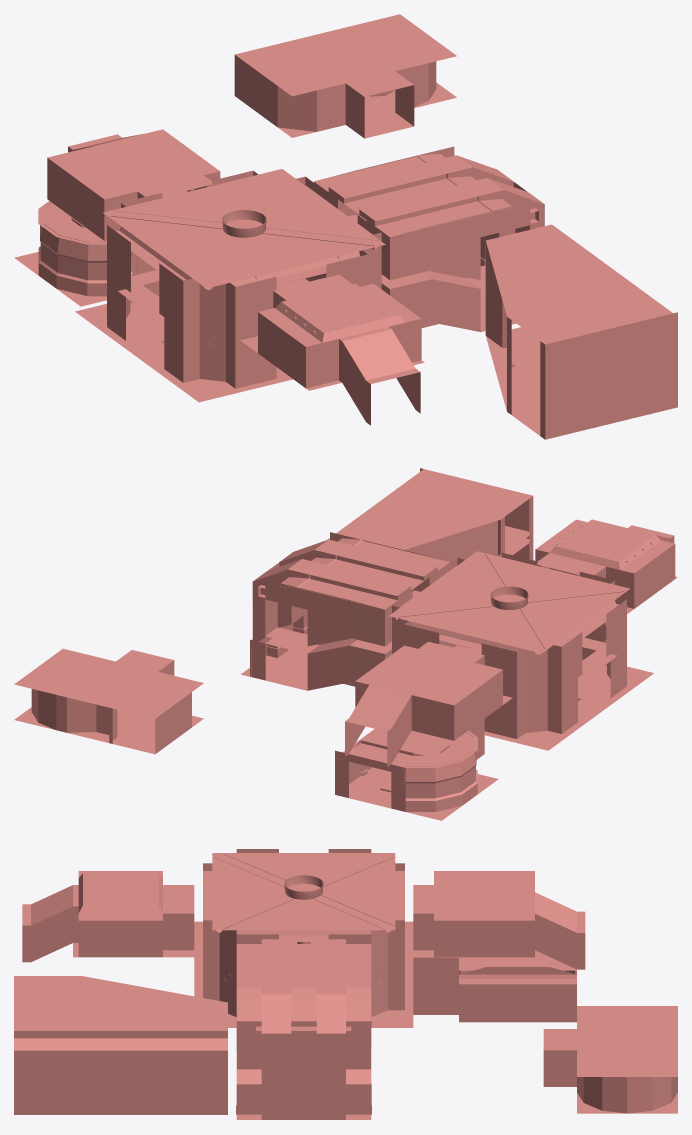
Rendered from CollisionMesh.fbx.
3 views of the same model, one above another, from view 1: azimuth 30°, elevation 25°; view 2: azimuth 150°, elevation 25°; view 3: azimuth 270°, elevation 25° (orthographic). The views are drawn at different scales.
Visible parts, largest first — view 1: Collision_Main, Collision_Corner, Collision_Lift, Collision_Base, Collision_Server, Collision_Storage, Collision_Center; view 2: Collision_Main, Collision_Lift, Collision_Base, Collision_Corner, Collision_Storage, Collision_Center, Collision_Server; view 3: Collision_Corner, Collision_Main, Collision_Lift, Collision_Storage, Collision_Server, Collision_Base, Collision_Center.
Part boxes in pixels (x1,y1,x2,y2): Collision_Main: [75, 169, 385, 402]; Collision_Corner: [485, 224, 677, 439]; Collision_Lift: [314, 146, 544, 332]; Collision_Base: [234, 14, 456, 138]; Collision_Server: [240, 274, 424, 425]; Collision_Storage: [47, 129, 220, 242]; Collision_Center: [14, 201, 106, 306]; Collision_Main: [389, 551, 653, 750]; Collision_Lift: [241, 532, 449, 690]; Collision_Base: [14, 648, 203, 754]; Collision_Corner: [327, 468, 533, 562]; Collision_Storage: [345, 641, 512, 766]; Collision_Center: [335, 719, 498, 820]; Collision_Server: [535, 519, 677, 613]; Collision_Corner: [14, 976, 227, 1114]; Collision_Main: [194, 849, 413, 1027]; Collision_Lift: [236, 939, 371, 1119]; Collision_Storage: [413, 871, 585, 969]; Collision_Server: [22, 871, 194, 962]; Collision_Base: [543, 1006, 677, 1113]; Collision_Center: [413, 950, 576, 1022].
Size of the model in its own units: 57.5 by 15.51 by 78.88.
